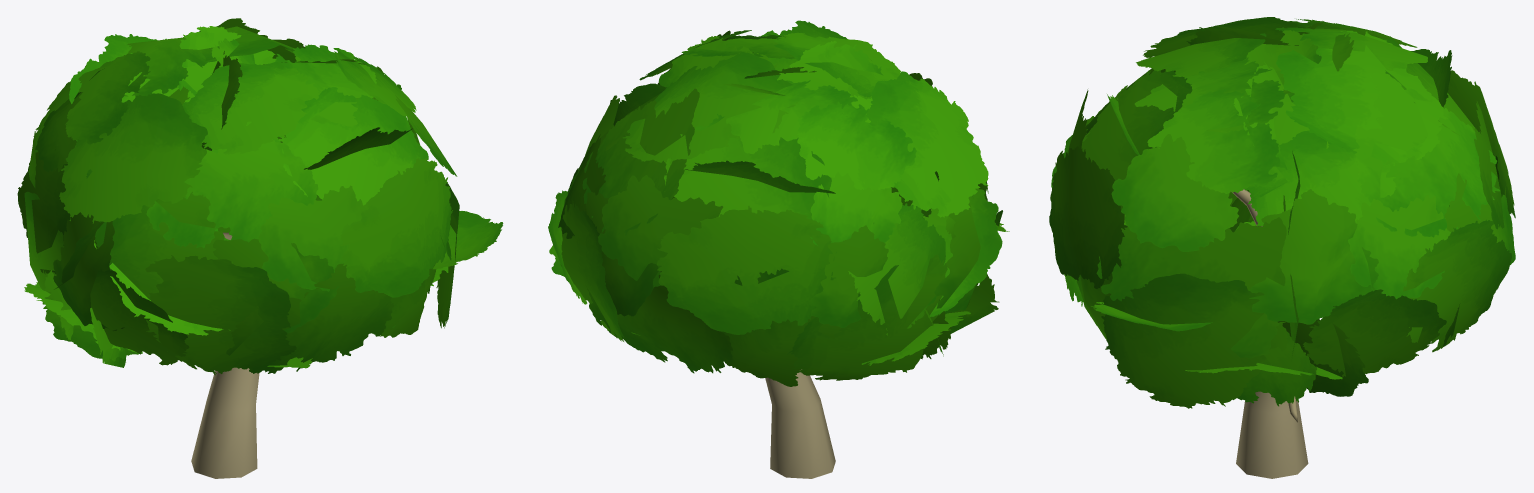
The model's file is OakTree_v2.fbx.
3 renders of one model, left to right at view 1: azimuth 30°, elevation 25°; view 2: azimuth 150°, elevation 25°; view 3: azimuth 270°, elevation 25°, orthographic. The views are drawn at different scales.
Visible parts, largest first — view 1: OakTree_v3_TreeTop_Leafs_FixedLeaf_v18, OakTree_v3, TreeTop; view 2: OakTree_v3_TreeTop_Leafs_FixedLeaf_v18, OakTree_v3, TreeTop; view 3: OakTree_v3_TreeTop_Leafs_FixedLeaf_v18, OakTree_v3, TreeTop.
Part boxes in pixels (box(x1,y1,x2,y2)): OakTree_v3_TreeTop_Leafs_FixedLeaf_v18: box(17, 18, 503, 375); OakTree_v3: box(191, 399, 257, 478); TreeTop: box(207, 232, 259, 411); OakTree_v3_TreeTop_Leafs_FixedLeaf_v18: box(548, 20, 1009, 386); OakTree_v3: box(770, 400, 835, 478); TreeTop: box(765, 369, 820, 411); OakTree_v3_TreeTop_Leafs_FixedLeaf_v18: box(1049, 17, 1515, 408); OakTree_v3: box(1236, 402, 1308, 478); TreeTop: box(1231, 189, 1297, 422).
Bounding box in the file's own units: 42.73 × 41.4 × 40.32.
